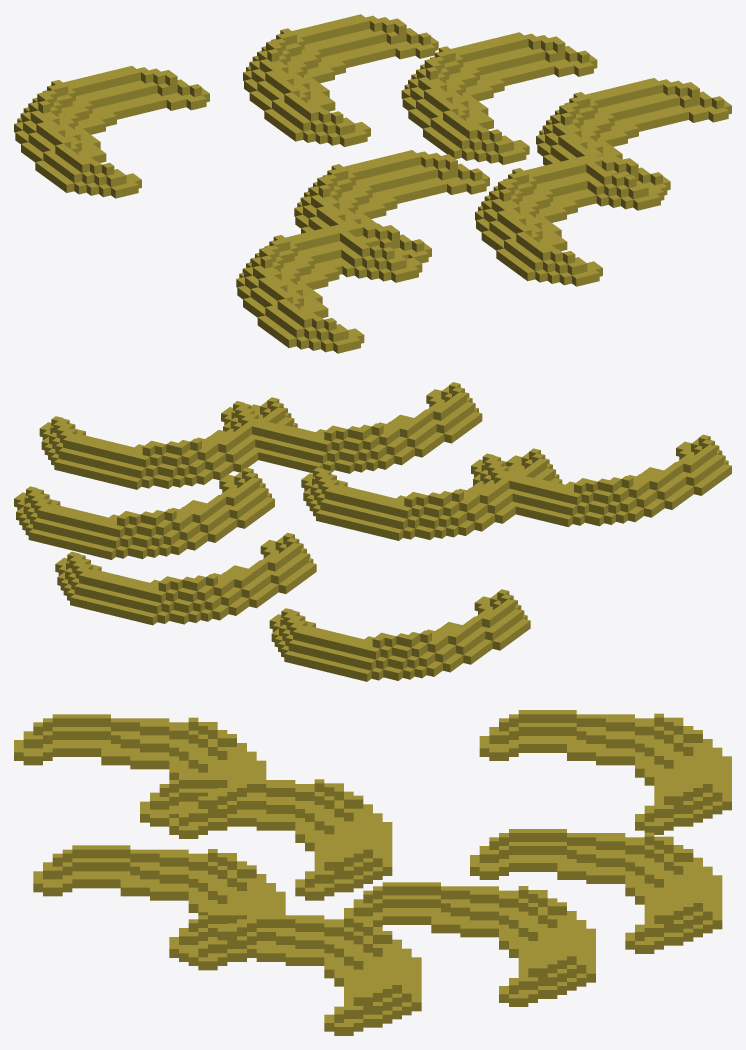
Rendered from dunes_2_overtile.obj.
The picture shows the model from 3 angles, top to bottom: view 1: azimuth 30°, elevation 25°; view 2: azimuth 150°, elevation 25°; view 3: azimuth 270°, elevation 25°; orthographic projection. The views are drawn at different scales.
Bounding box in the file's own units: 7.5 × 0.4 × 7.4.
Materials: 1 (1 with a texture image).
